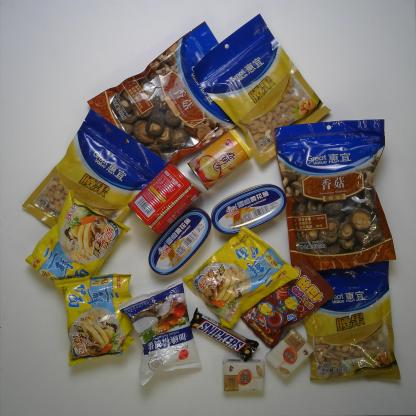Candy: (238, 256, 336, 350)
Canned Food: (127, 159, 203, 236), (147, 207, 213, 276), (186, 128, 254, 192), (210, 183, 288, 235)
Chocolate: (189, 306, 260, 362)
Dried Food: (85, 18, 229, 166), (274, 118, 396, 271)
Dried Fruit: (192, 12, 333, 166), (21, 108, 169, 228), (303, 260, 402, 382)
Instant Noodles: (182, 225, 300, 329), (23, 189, 132, 283), (53, 272, 135, 368)
Seasoner: (117, 275, 203, 387)
Tissue: (264, 325, 315, 381), (221, 358, 266, 392)
